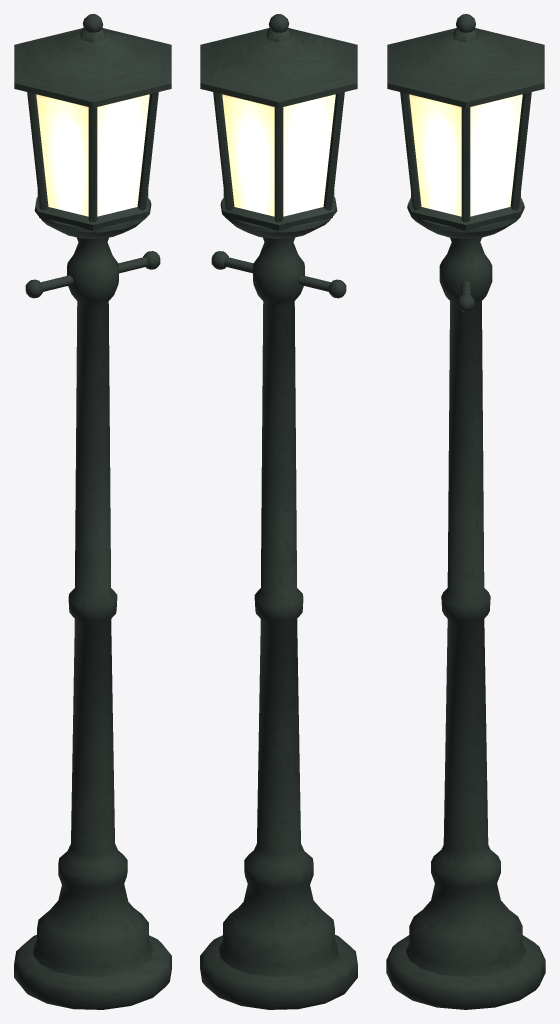
Rendered from streetlamp.glb.
The picture shows the model from 3 angles, left to right: view 1: azimuth 30°, elevation 25°; view 2: azimuth 150°, elevation 25°; view 3: azimuth 270°, elevation 25°; orthographic projection.
Visible parts, largest first — view 1: streetlamp; view 2: streetlamp; view 3: streetlamp.
Part boxes in pixels (x1,y1,x2,y2): streetlamp: (14, 14, 171, 1009); streetlamp: (200, 14, 357, 1009); streetlamp: (386, 14, 545, 1009).
Size of the model in its own units: 0.456 by 2.67 by 0.4.
Materials: 2 (2 with a texture image).
